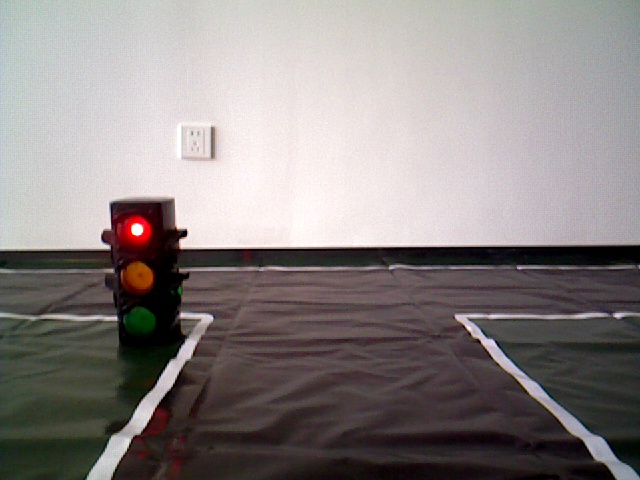red: (112, 202, 178, 345)
